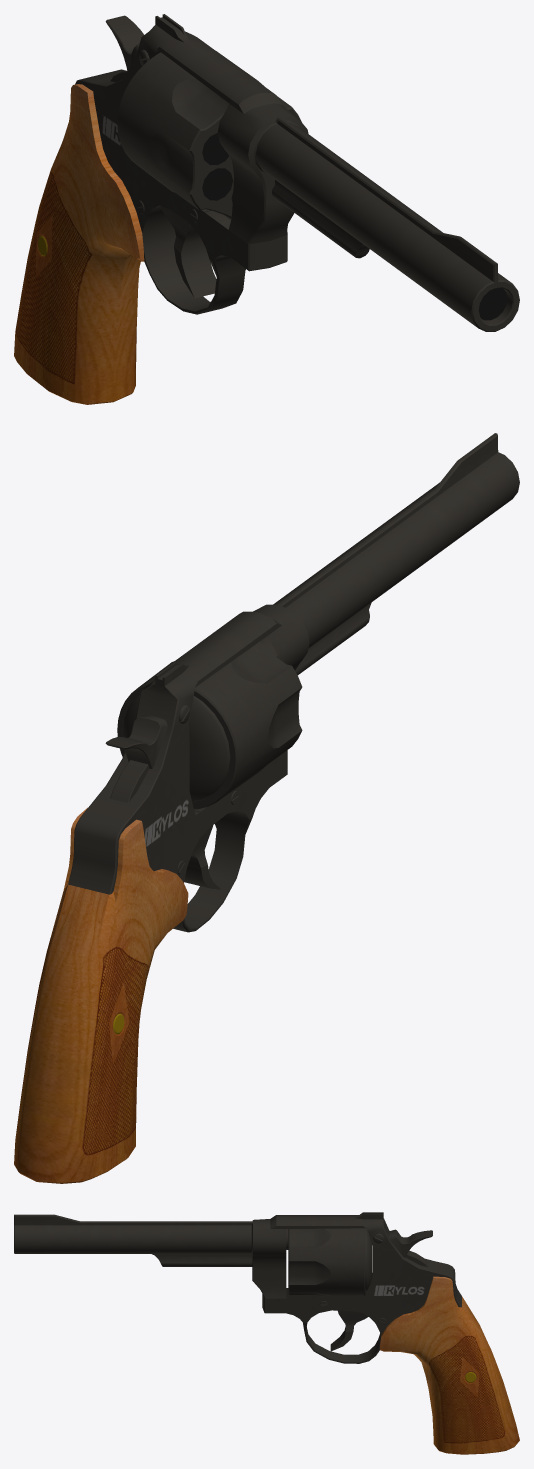
The model's file is GunRevolver.fbx.
3 views of the same model, one above another, from view 1: azimuth 30°, elevation 25°; view 2: azimuth 150°, elevation 25°; view 3: azimuth 270°, elevation 25° (orthographic). The views are drawn at different scales.
Visible parts, largest first — view 1: Circle.002, Circle; view 2: Circle.002, Circle; view 3: Circle.002, Circle.
Boxes of the visible parts, x1,y1,x2,y2 form: Circle.002: (14, 14, 519, 404); Circle: (117, 51, 301, 219); Circle.002: (14, 433, 519, 1183); Circle: (117, 642, 302, 809); Circle.002: (14, 1212, 519, 1454); Circle: (288, 1228, 365, 1295).
Bounding box in the file's own units: 0.7419 × 2.48 × 4.91.
